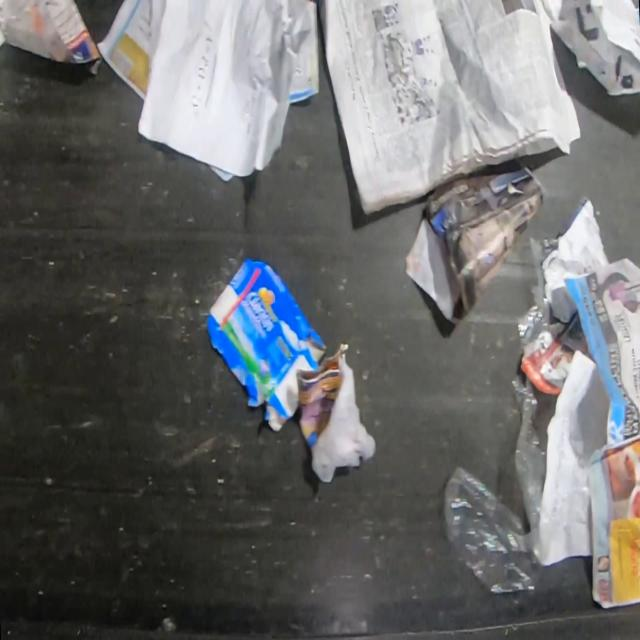cardboard: (208, 258, 326, 432)
soft_plastic: (442, 370, 559, 595), (515, 234, 559, 354)
